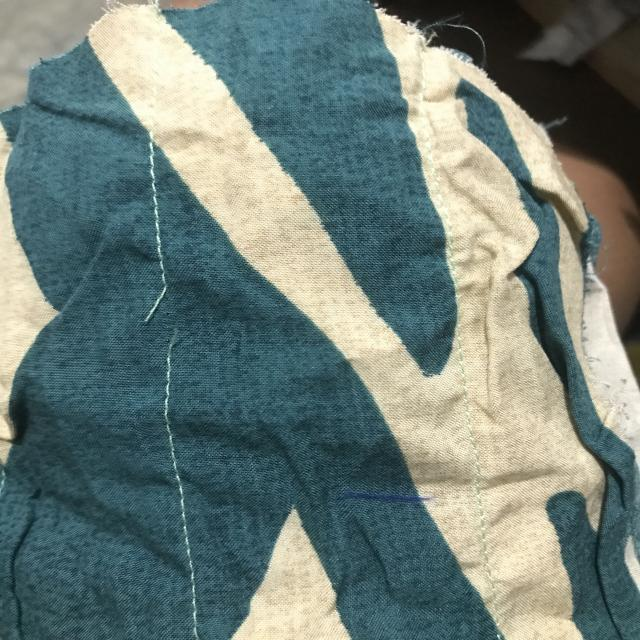broken: (116, 275, 216, 368)
good: (126, 168, 176, 258)
